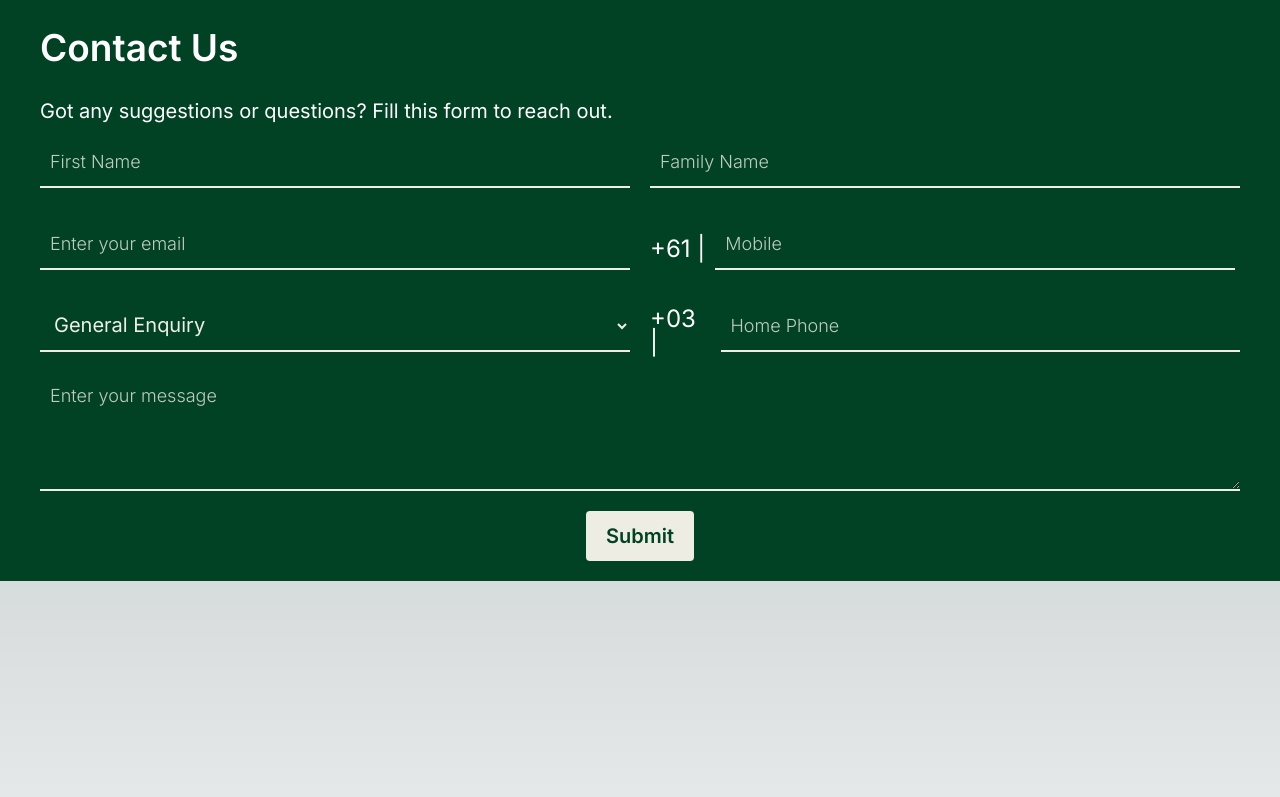
Test: ContactForm Component › shows complaints fields when Complaints is selected
// Change the Enquiry Type to Complaints
Select "Complaints" in the dropdown named "Enquiry Type". click: [335, 326]
box: [40,300,630,352]
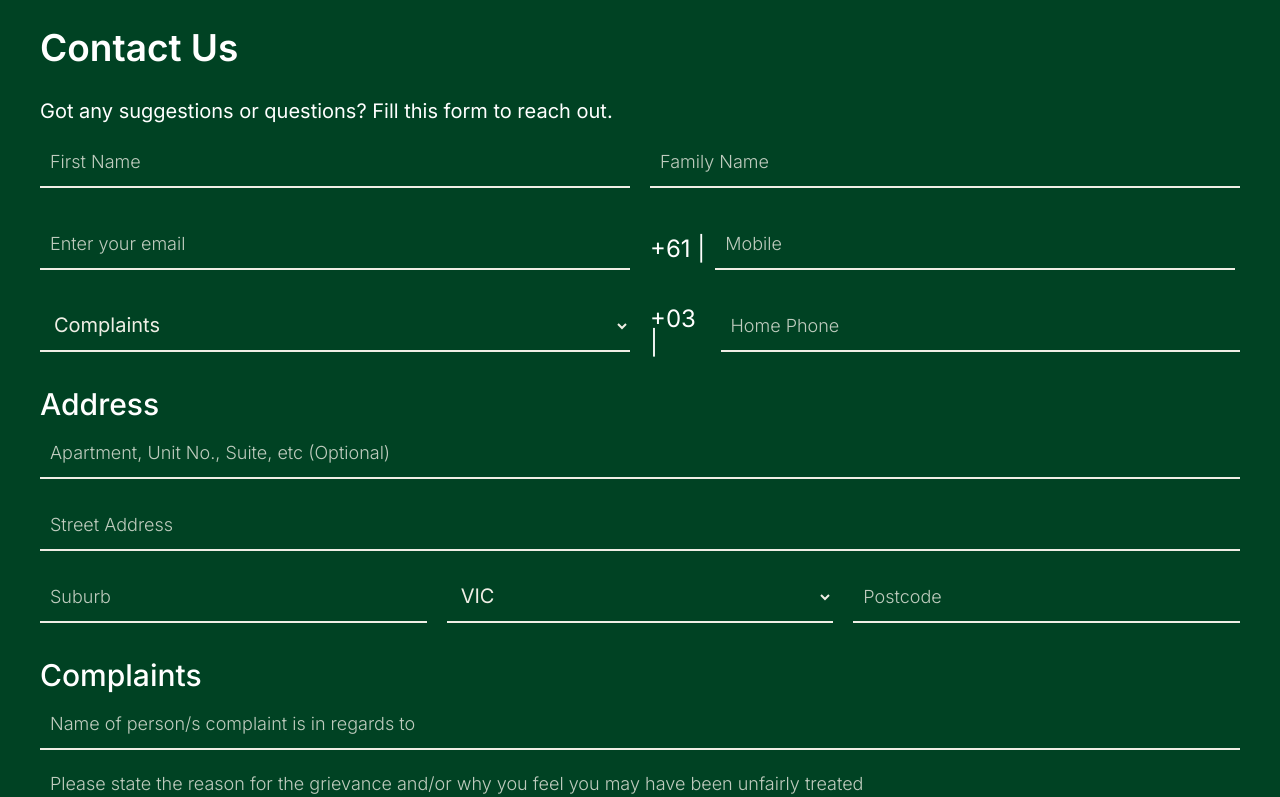
Check: the field with placeholder "Name of person/s complaint is in regards to" is shown, box [40,698,1240,750]
Check: the heading "Address" is shown, box [40,386,159,422]
